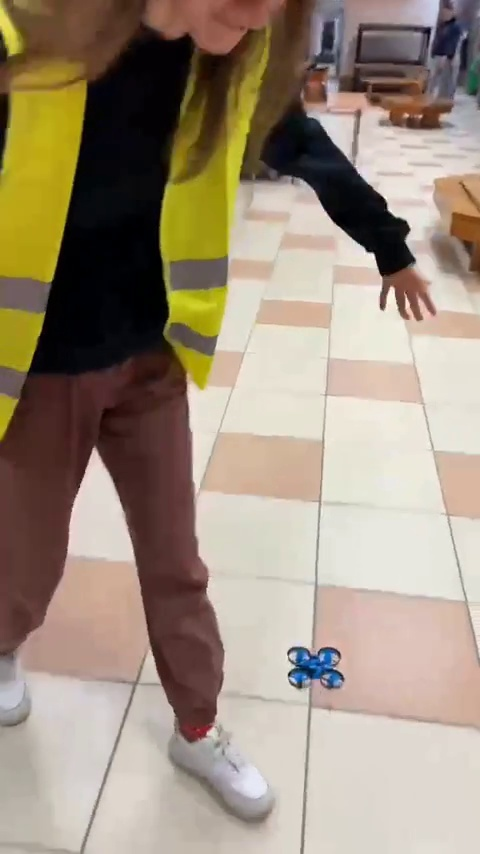drone: (285, 646, 343, 691)
no vest: (426, 7, 460, 104)
vest: (0, 4, 257, 806)
